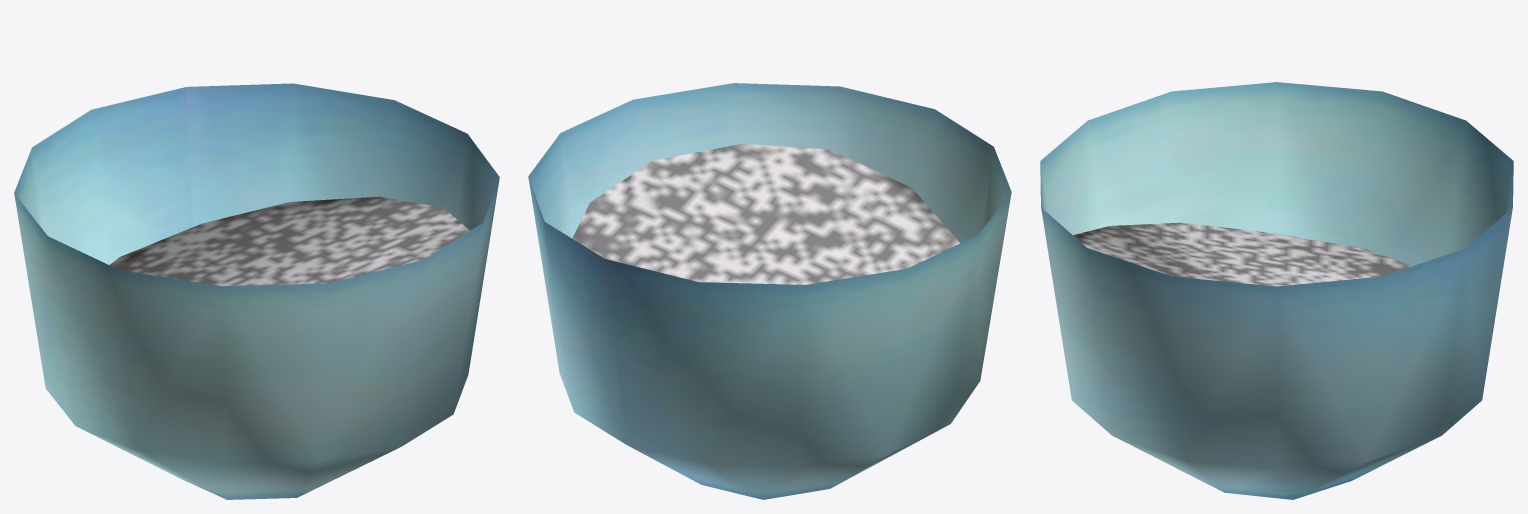
File: eqp_medic_powder_s01_l0.fbx
The picture shows the model from 3 angles, left to right: view 1: azimuth 30°, elevation 25°; view 2: azimuth 150°, elevation 25°; view 3: azimuth 270°, elevation 25°; orthographic projection.
Visible parts, largest first — view 1: mesh_node; view 2: mesh_node; view 3: mesh_node.
Part boxes in pixels (<box>): mesh_node: <box>14,83,499,499</box>; mesh_node: <box>528,83,1011,499</box>; mesh_node: <box>1040,82,1513,499</box>.
Size of the model in its own units: 0.1969 by 0.2031 by 0.1927.
